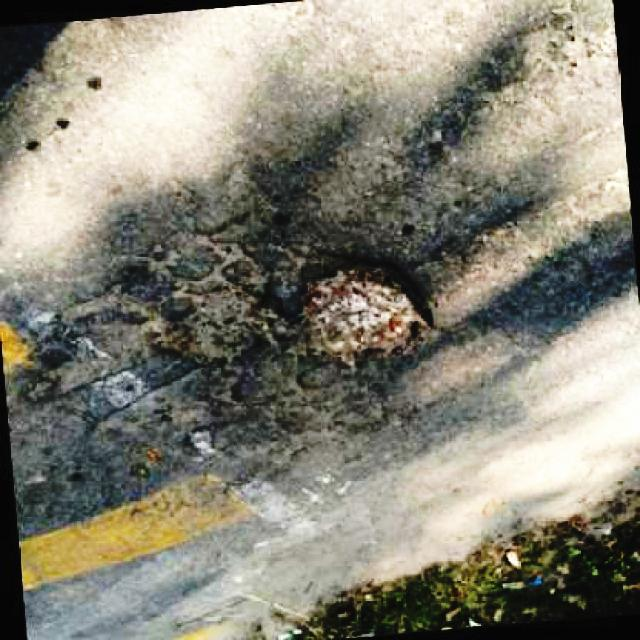pothole: (296, 242, 432, 360), (142, 271, 289, 371)
